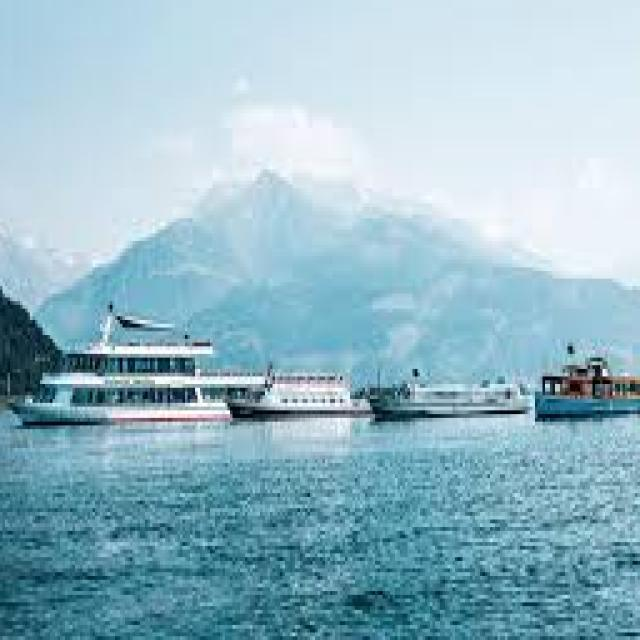passenger ship: (29, 316, 232, 425), (368, 347, 522, 452), (535, 316, 640, 426), (240, 351, 352, 418)
